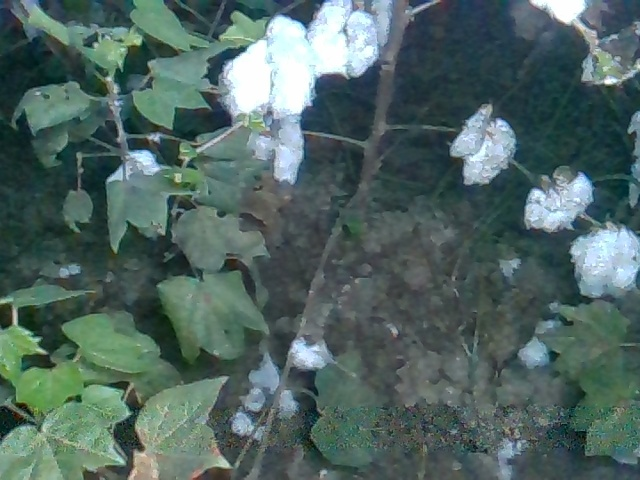cotton: (211, 13, 313, 132), (301, 6, 380, 97), (444, 99, 524, 188), (567, 216, 640, 300), (515, 164, 593, 233), (242, 112, 304, 186), (100, 157, 167, 189), (285, 334, 331, 376), (526, 1, 592, 27), (225, 403, 252, 438)
